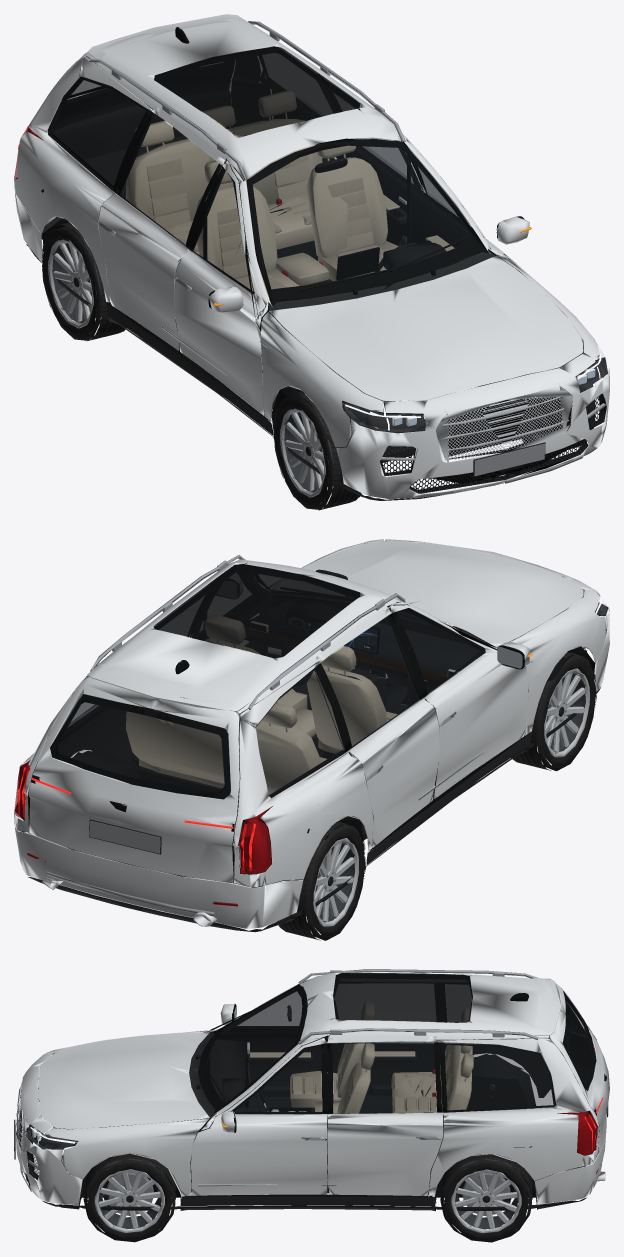
Rendered from luxury-suv.glb.
The picture shows the model from 3 angles, top to bottom: view 1: azimuth 30°, elevation 25°; view 2: azimuth 150°, elevation 25°; view 3: azimuth 270°, elevation 25°; orthographic projection. The views are drawn at different scales.
Parts seen in each view (by area): view 1: Body, Wheel_FR, Wheel_RR; view 2: Body, Wheel_RR, Wheel_FR, Steering_Wheel; view 3: Body, Wheel_FL, Wheel_RL.
Part boxes in pixels (box(x1,y1,x2,y2)): Body: box(14, 14, 609, 500); Wheel_FR: box(274, 391, 361, 510); Wheel_RR: box(42, 222, 126, 340); Body: box(14, 539, 609, 932); Wheel_RR: box(277, 821, 365, 940); Wheel_FR: box(511, 651, 596, 770); Steering_Wheel: box(263, 624, 317, 686); Body: box(14, 969, 609, 1211); Wheel_FL: box(83, 1153, 175, 1242); Wheel_RL: box(440, 1154, 532, 1242).
Bounding box in the file's own units: 2.35 × 1.84 × 4.96.
60 materials, 12 textured.
